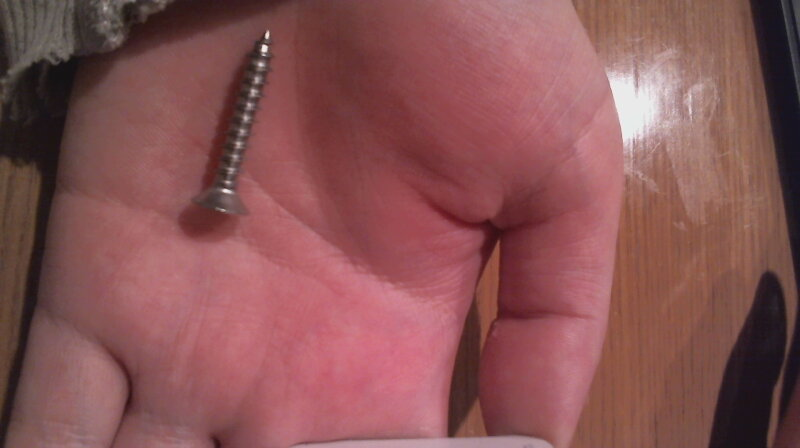S001: (183, 21, 276, 223)
